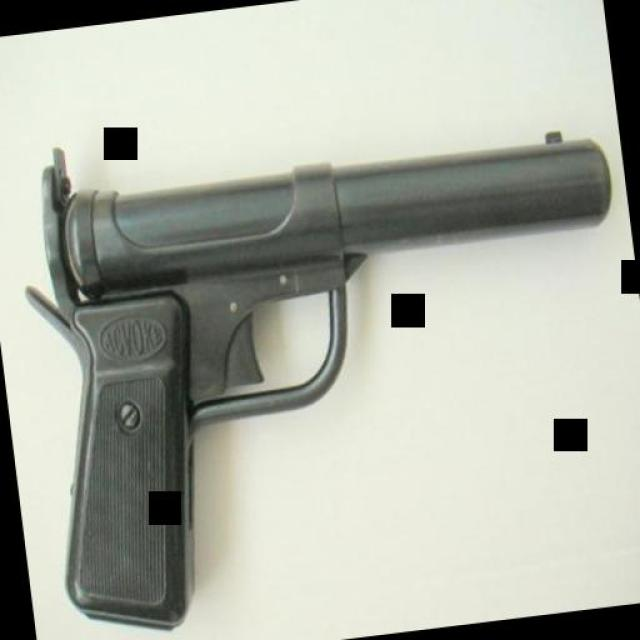gun: (5, 77, 640, 632)
